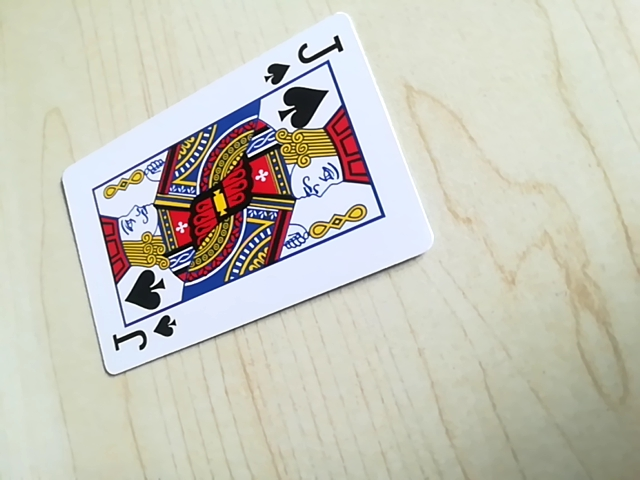ht j: (259, 29, 349, 83), (106, 304, 180, 365)
